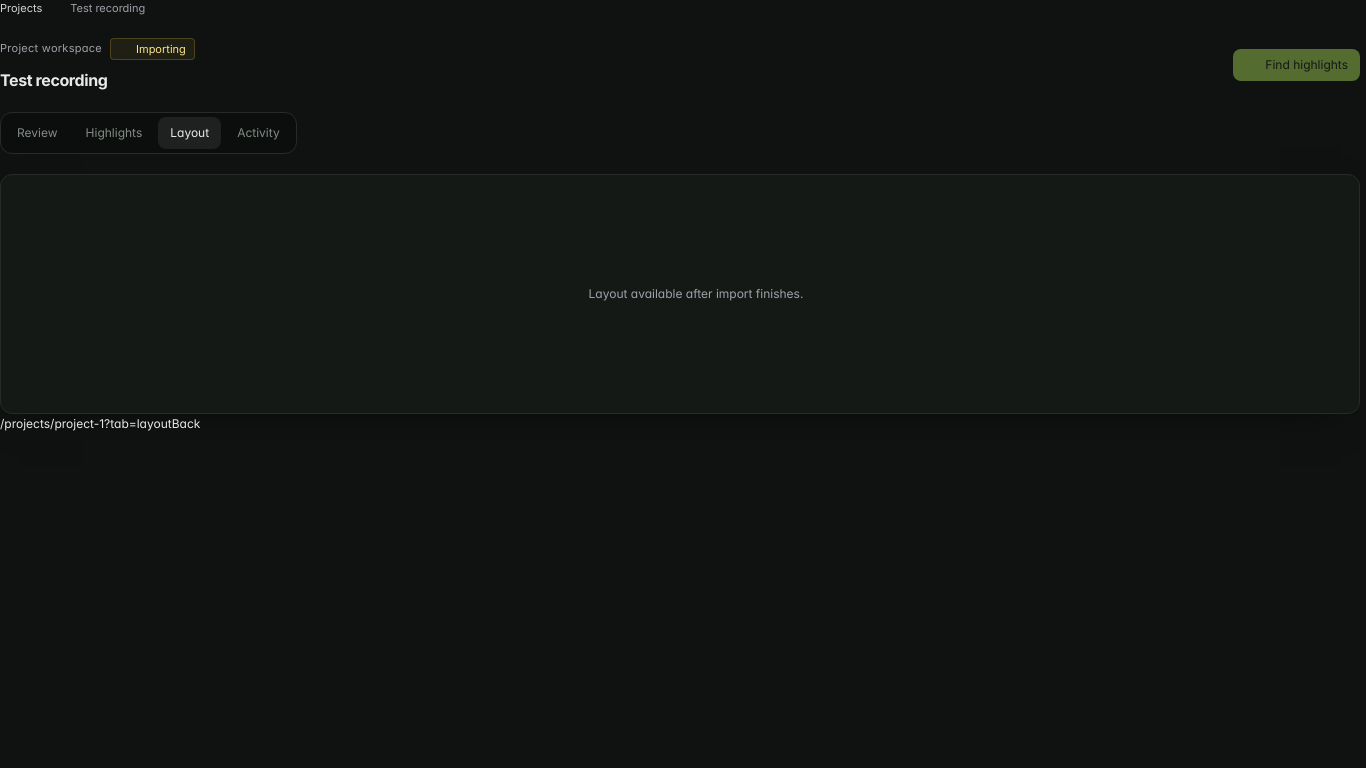
Test case: project workspace views › retains import progress without mounting either video editor
expect the text "Layout available after import finishes." is shown: met, box [589,286,803,302]
What coordinates should you click on to do the following:
click the tab "Review"
I would click on:
 (37, 133)
Its box is [5,117,70,149].
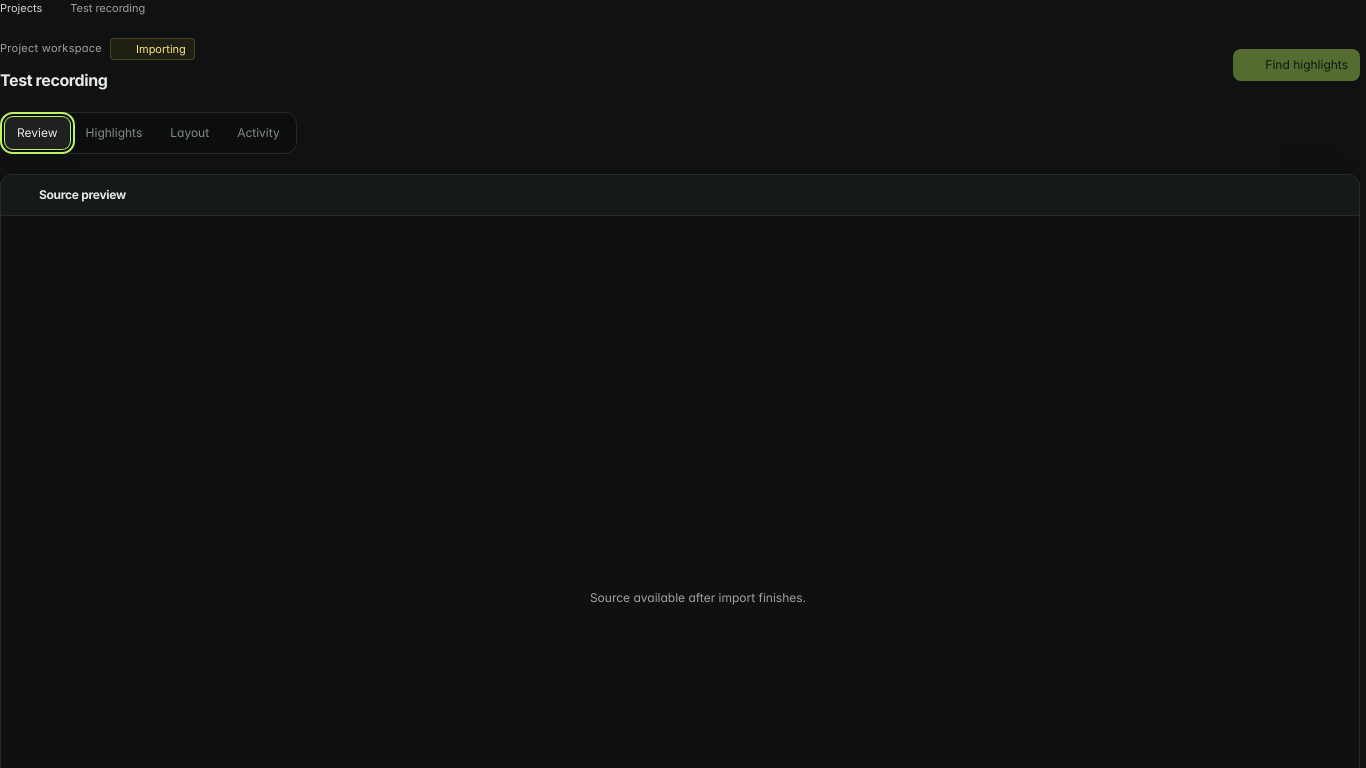
expect the button "Find highlights" is disabled: met, box [1233,49,1360,81]
expect the text "Source available after import finishes." is shown: met, box [590,590,806,606]
